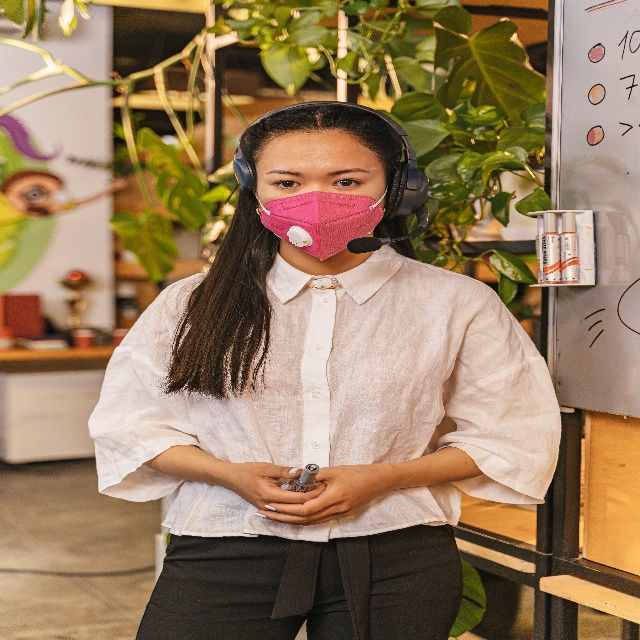Mascara: (260, 190, 382, 265)
Sin_guantes: (252, 468, 373, 523), (229, 456, 324, 509)
